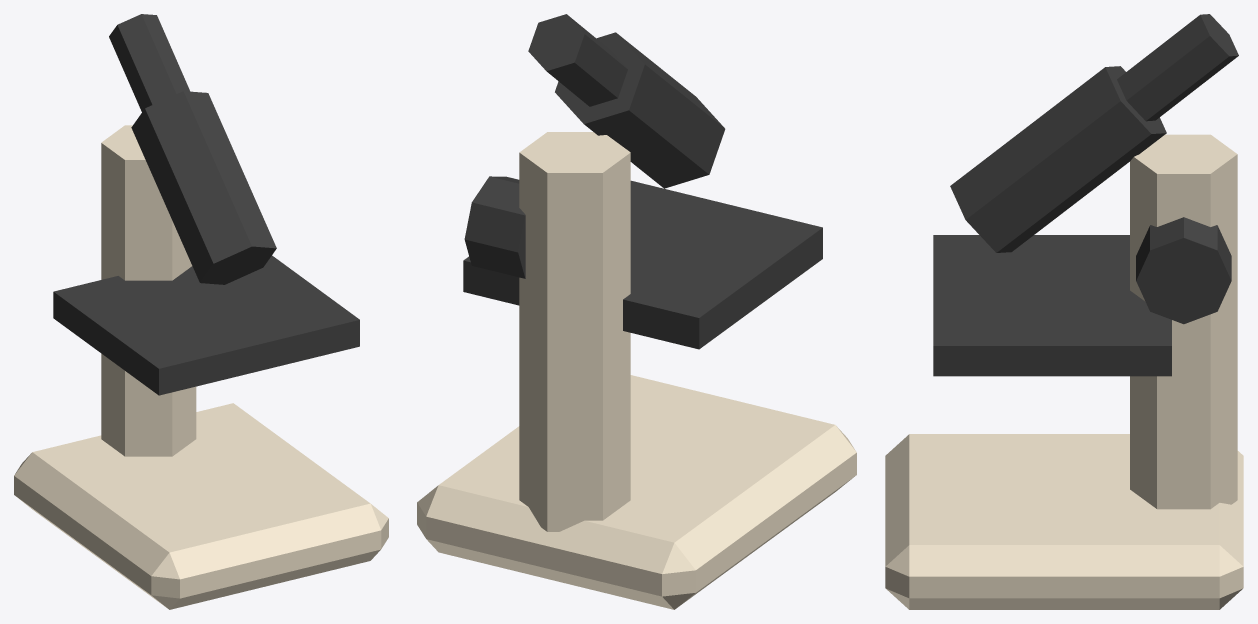
3 renders of one model, left to right at view 1: azimuth 30°, elevation 25°; view 2: azimuth 150°, elevation 25°; view 3: azimuth 270°, elevation 25°, orthographic. The views are drawn at different scales.
Visible parts, largest first — view 1: Foot, Stage, Arm, Optical barrel, Eyepiece; view 2: Foot, Arm, Stage, Optical barrel, Eyepiece, Focus knob; view 3: Foot, Stage, Arm, Optical barrel, Focus knob, Eyepiece.
Boxes of the visible parts, <box> form: Foot: <box>14,403,388,609</box>; Stage: <box>53,255,359,395</box>; Arm: <box>101,125,196,456</box>; Optical barrel: <box>131,91,276,284</box>; Eyepiece: <box>109,14,190,111</box>; Foot: <box>417,375,856,609</box>; Arm: <box>519,132,630,531</box>; Stage: <box>463,180,822,349</box>; Optical barrel: <box>555,32,725,188</box>; Eyepiece: <box>528,14,627,106</box>; Focus knob: <box>464,176,525,278</box>; Foot: <box>885,434,1243,609</box>; Stage: <box>933,235,1171,376</box>; Arm: <box>1130,134,1237,509</box>; Optical barrel: <box>950,66,1166,252</box>; Focus knob: <box>1136,217,1231,324</box>; Eyepiece: <box>1117,14,1238,121</box>.
Size of the model in its own units: 0.26 by 0.499 by 0.3.
Materials: 1 (1 with a texture image).
